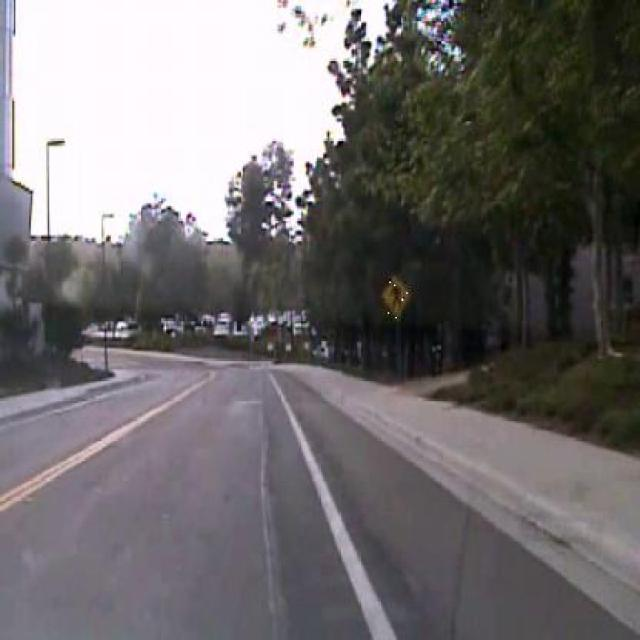pedestrianCrossing: (380, 274, 412, 320)
